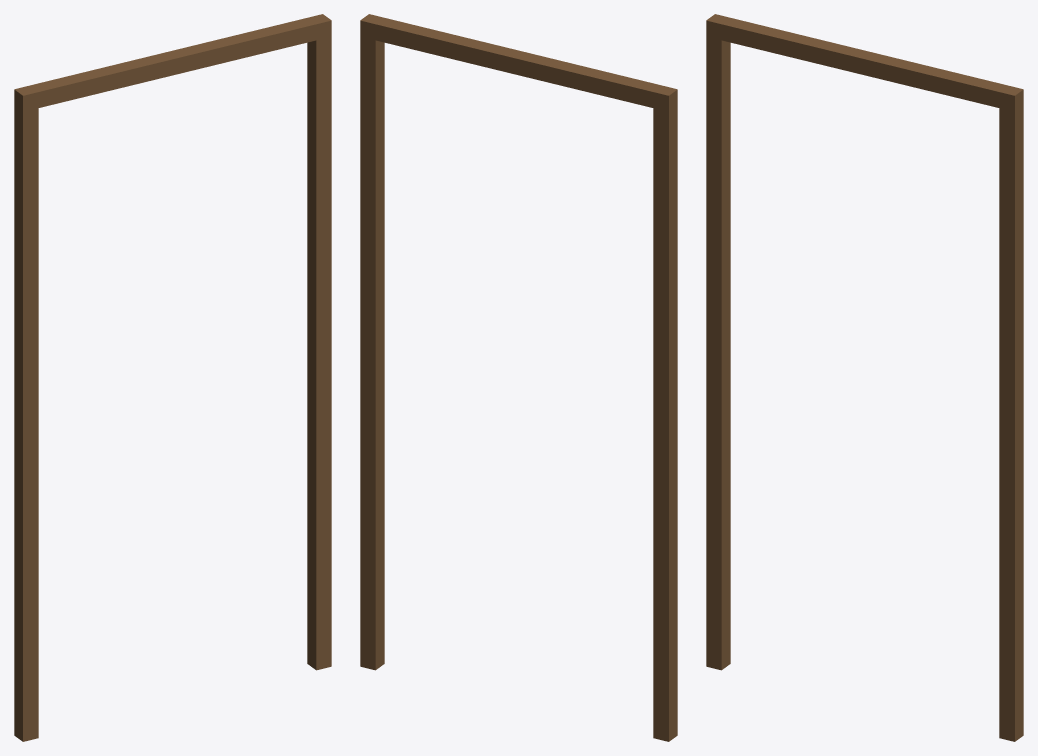
Rendered from Frame.gltf.
3 views of the same model, side by side, from view 1: azimuth 30°, elevation 25°; view 2: azimuth 150°, elevation 25°; view 3: azimuth 330°, elevation 25° (orthographic).
Parts seen in each view (by area): view 1: Frame; view 2: Frame; view 3: Frame.
Part boxes in pixels (x1,y1,x2,y2): Frame: (14,14,331,741); Frame: (360,14,677,741); Frame: (706,14,1023,741).
Size of the model in its own units: 1 by 2 by 0.05.
